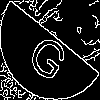G: (25, 24, 76, 84)
